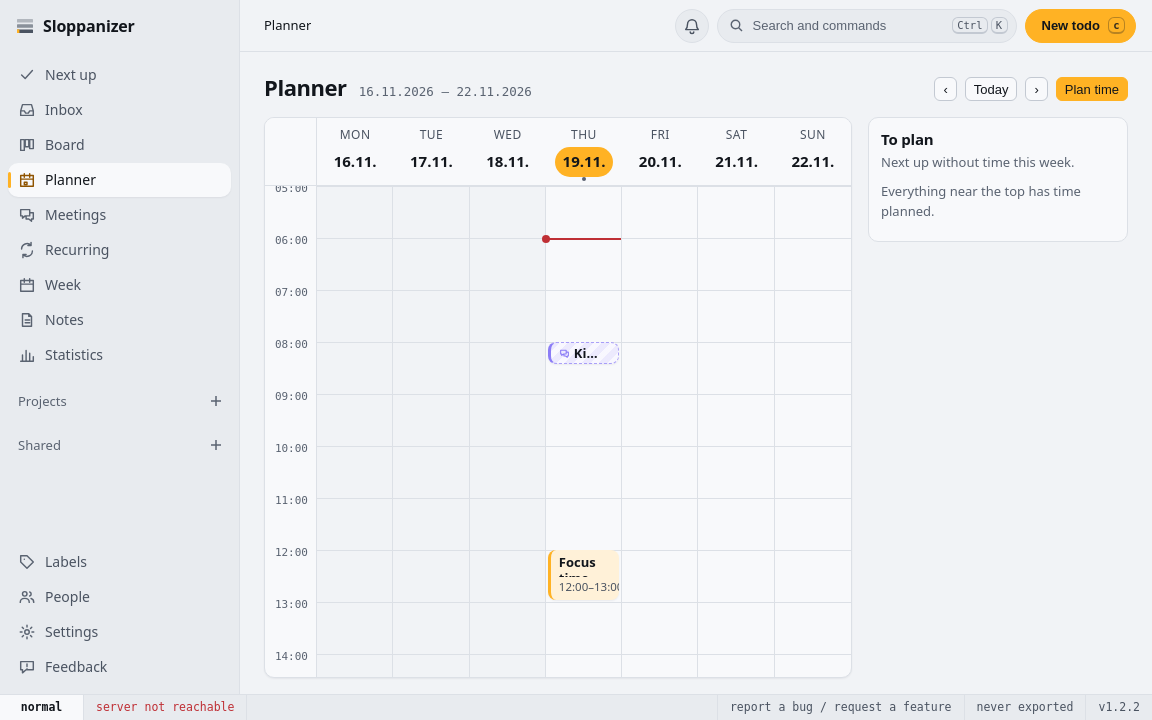
it: one-time meetings in the planner (S5#5) › deletes a one-time meeting from its dialog after asking
Later steps or results of the test are not shown.
(page scrolled)
Click the button titled "Kick-off, " at x=583, y=353, box x1=548 y1=342 x2=619 y2=364
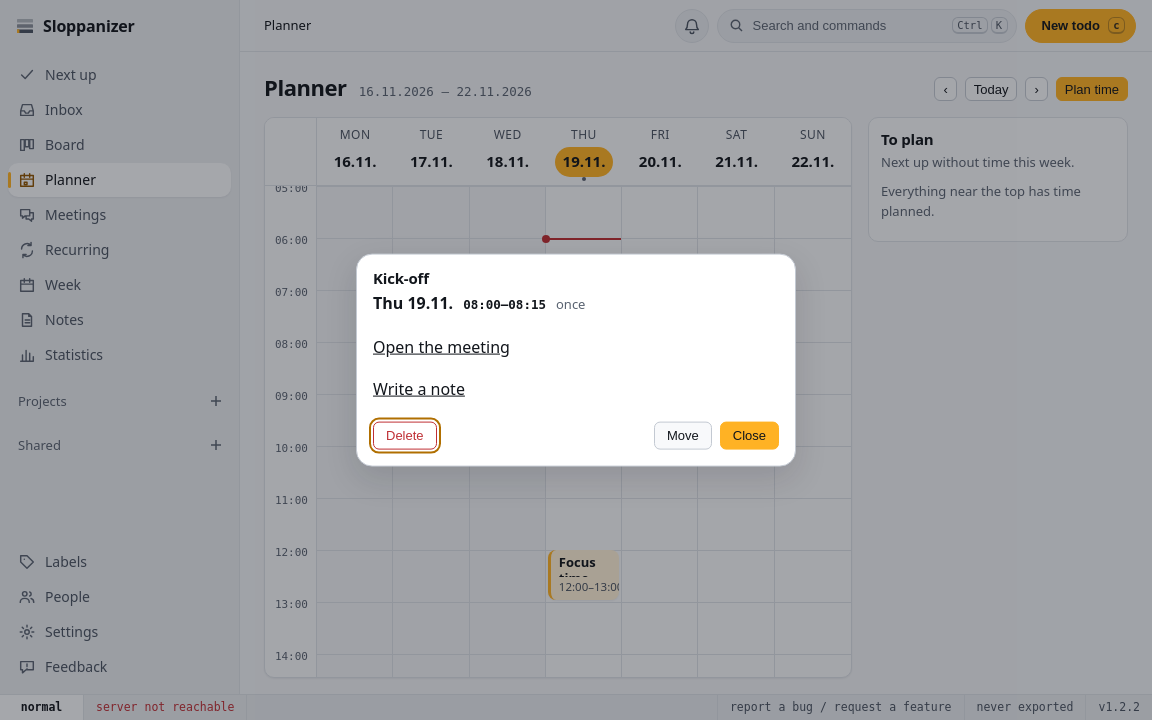
Click the button "Delete" at x=405, y=435, box x1=373 y1=421 x2=437 y2=449
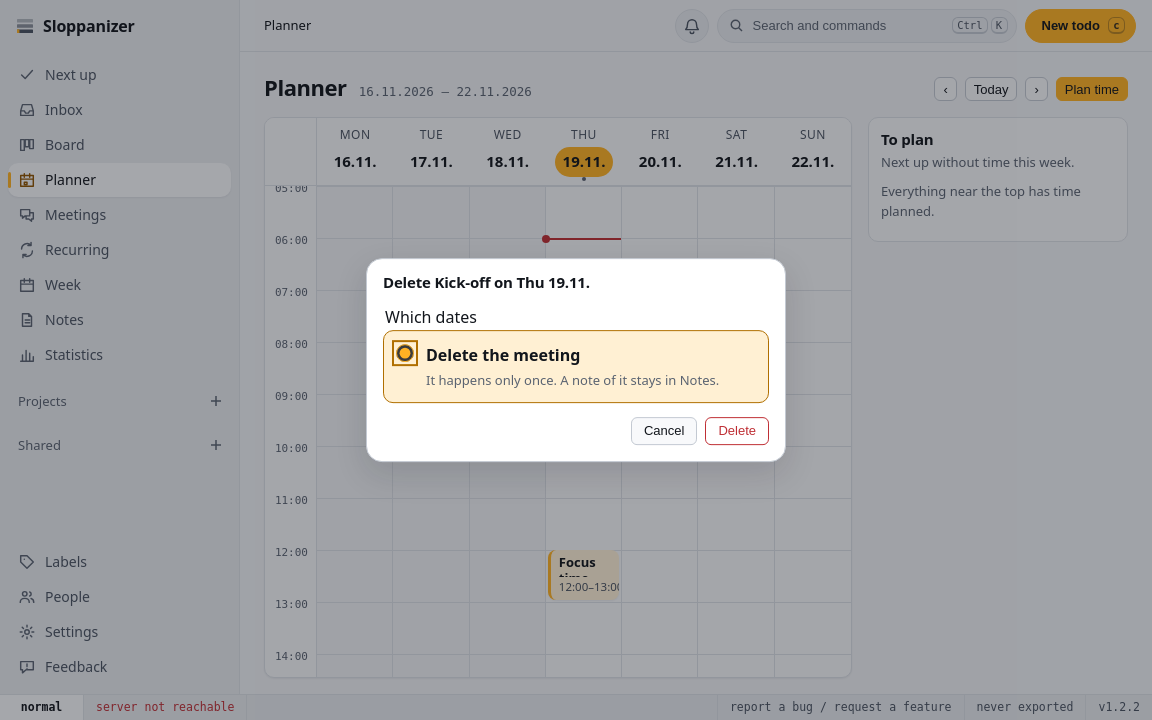
Expected: the number of radio buttons is 1, x1=396 y1=344 x2=414 y2=362
